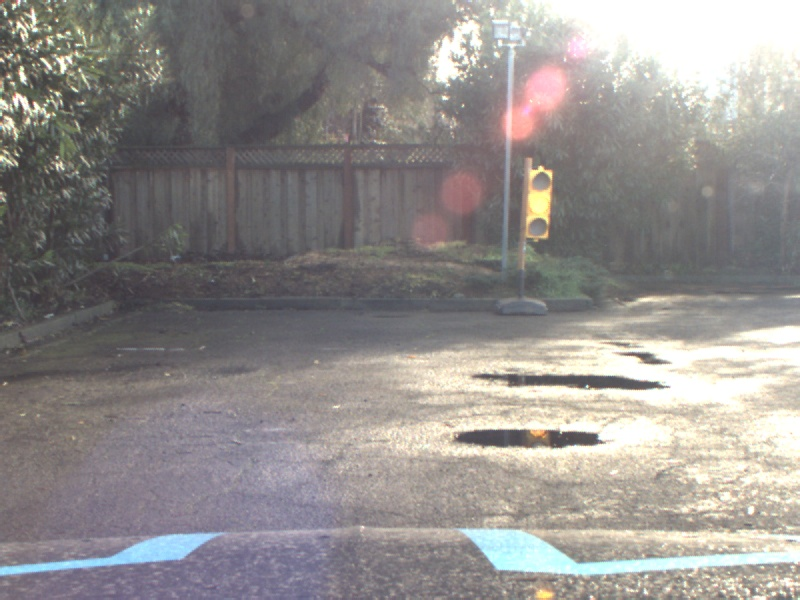Yellow: (524, 169, 549, 238)
